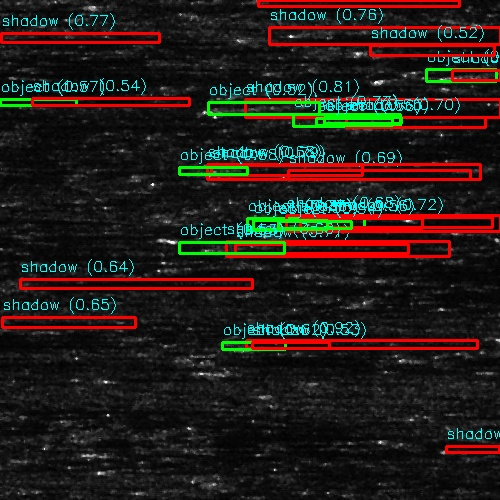rock: (254, 220, 389, 229), (210, 338, 293, 351), (177, 104, 282, 113), (406, 70, 500, 79), (183, 245, 266, 254), (232, 32, 325, 39), (350, 119, 413, 124), (176, 366, 239, 371), (214, 166, 277, 171), (469, 232, 500, 237), (486, 455, 500, 464), (0, 281, 22, 284)
shadow: (0, 74, 349, 85), (252, 338, 484, 351), (322, 220, 500, 229), (225, 245, 381, 254), (0, 252, 82, 263), (2, 281, 298, 284), (246, 166, 404, 171), (230, 104, 307, 113), (279, 32, 357, 39), (382, 119, 462, 124), (208, 366, 284, 371), (474, 70, 500, 79)
